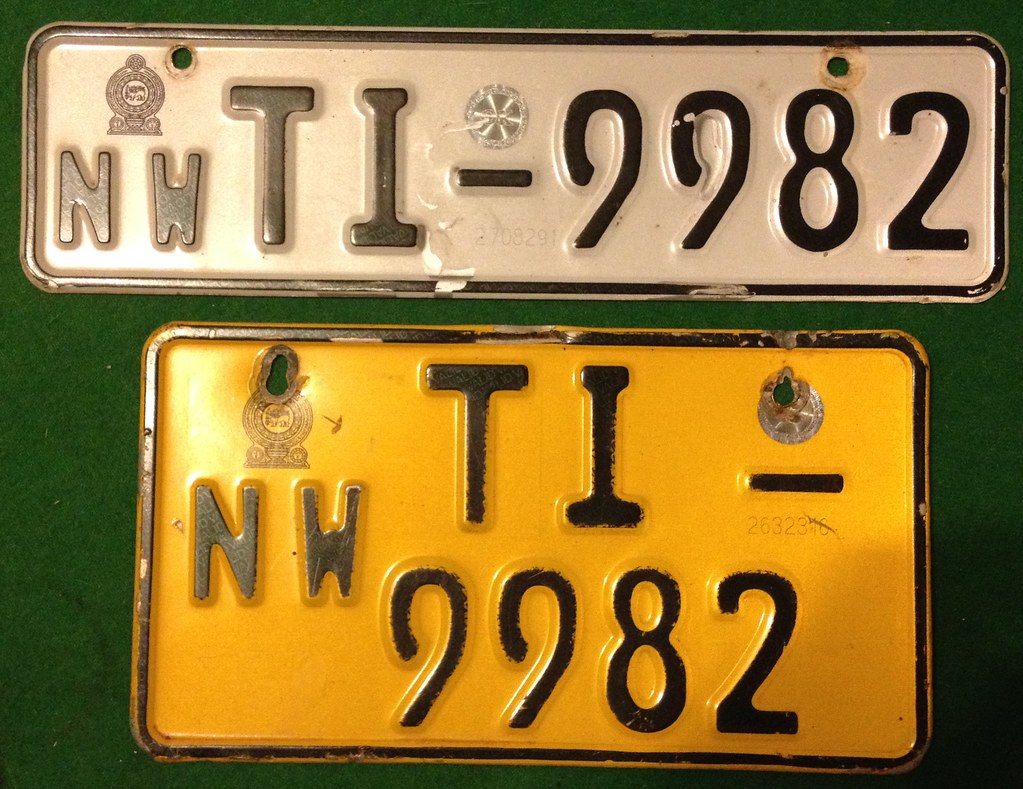doublelinenumberplate: (128, 318, 931, 776)
numberplate: (18, 17, 1005, 304)
